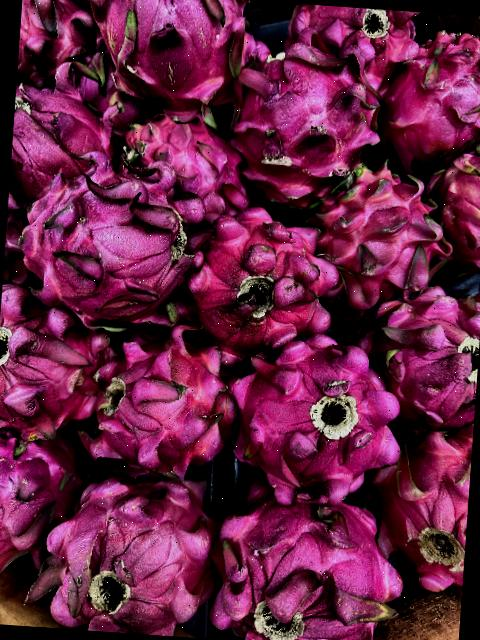buah-naga-matang: (207, 475, 409, 640), (216, 341, 416, 506), (42, 462, 218, 638), (15, 171, 198, 340), (221, 45, 378, 206), (186, 195, 338, 356), (82, 318, 234, 479), (340, 268, 480, 429), (309, 154, 440, 302), (82, 0, 252, 109), (0, 279, 104, 447), (116, 107, 247, 230), (9, 73, 134, 201), (384, 425, 472, 606), (390, 24, 480, 166), (0, 433, 73, 582), (286, 4, 415, 84)
